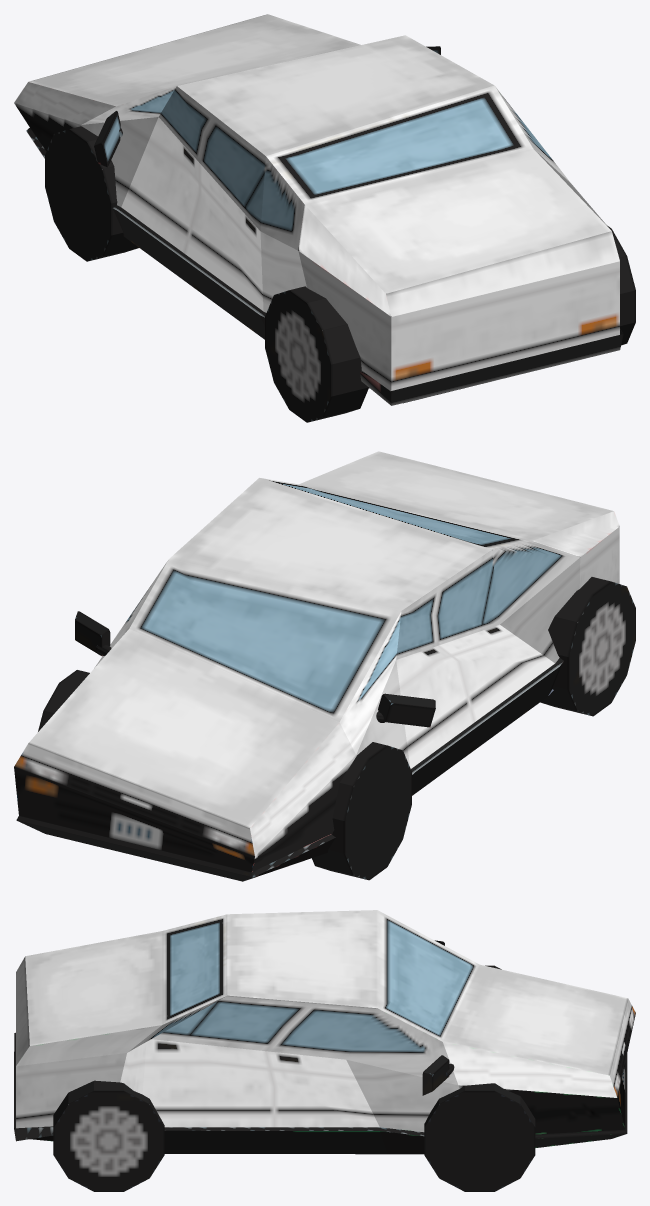
Rendered from Car__crunched.fbx.
The picture shows the model from 3 angles, top to bottom: view 1: azimuth 30°, elevation 25°; view 2: azimuth 150°, elevation 25°; view 3: azimuth 270°, elevation 25°; orthographic projection. The views are drawn at different scales.
Parts seen in each view (by area): view 1: car_body, wheels_back_left, wheels_front_left, wheels_back_right, mirror_left01; view 2: car_body, wheels_back_left, wheels_front_left, mirror_left01, mirror_right02, wheels_front_right; view 3: car_body, wheels_back_right, wheels_front_right, mirror_right02.
Part boxes in pixels (x1=…): car_body: x1=14, y1=14, x2=623, y2=405; wheels_back_left: x1=265, y1=286, x2=368, y2=422; wheels_front_left: x1=45, y1=126, x2=138, y2=261; wheels_back_right: x1=607, y1=225, x2=635, y2=345; mirror_left01: x1=94, y1=111, x2=120, y2=167; car_body: x1=14, y1=451, x2=619, y2=881; wheels_back_left: x1=540, y1=577, x2=635, y2=716; wheels_front_left: x1=312, y1=742, x2=411, y2=880; mirror_left01: x1=378, y1=693, x2=435, y2=727; mirror_right02: x1=75, y1=611, x2=110, y2=656; wheels_front_right: x1=38, y1=670, x2=89, y2=731; car_body: x1=14, y1=910, x2=635, y2=1154; wheels_back_right: x1=53, y1=1080, x2=164, y2=1191; wheels_front_right: x1=424, y1=1083, x2=535, y2=1191; mirror_right02: x1=422, y1=1055, x2=449, y2=1095.
Bounding box in the file's own units: 115 × 67.19 × 210.
Materials: 1 (1 with a texture image).
